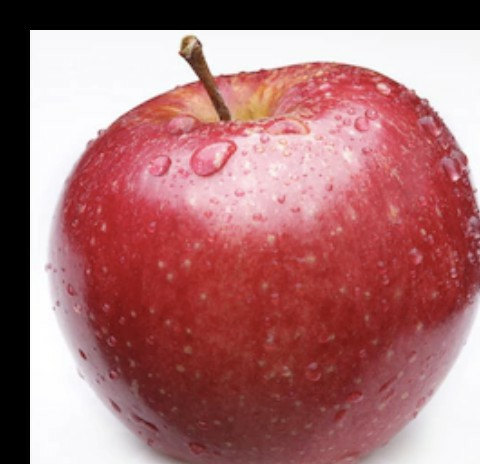fresh_apple: (48, 67, 480, 464)
